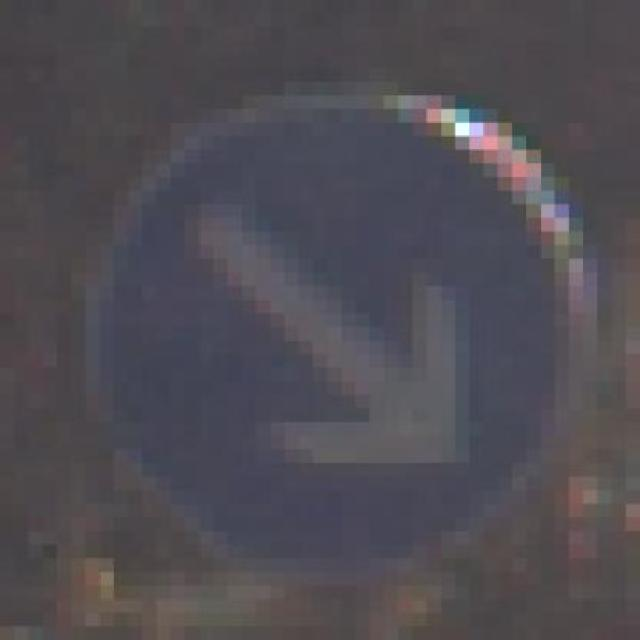Keep-Right: (71, 68, 612, 600)
